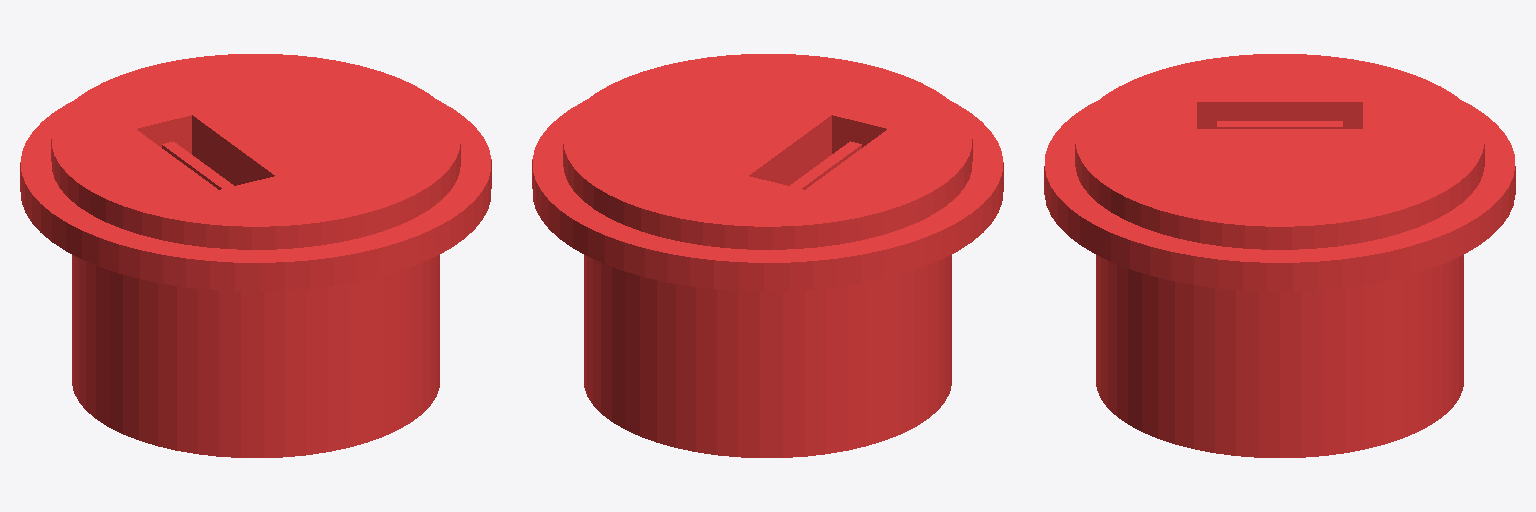
The robot description file, URDF, robot "USB_socket":
<?xml version="1.0"?>
<robot name="USB_socket">
    <link name="USB_socket">
        <visual>
            <geometry>
                <mesh filename="../mesh/TVB_mesh/USB_socket_1port.obj"/>                  
            </geometry>
            <material name="LightRed">
                <color rgba="1 0.3 0.3 1"/>
            </material>
        </visual>
        <collision>
            <geometry>
                <mesh filename="../mesh/TVB_mesh/USB_socket_1port.obj"/>                
            </geometry>
            <sdf resolution="128"/>
        </collision>
    </link>
</robot>

--- Facts derived from the render (not from the file) ---
Views: 3 orthographic renders of the robot side by side, from view 1: azimuth 30°, elevation 25°; view 2: azimuth 150°, elevation 25°; view 3: azimuth 270°, elevation 25°.
Robot: USB_socket — 1 links, 0 joints (none); root link USB_socket; default pose: every joint at zero.
Visible links, largest first — view 1: USB_socket; view 2: USB_socket; view 3: USB_socket.
Link boxes in pixels (box(x1,y1,x2,y2)): USB_socket: box(20, 54, 491, 457); USB_socket: box(532, 54, 1003, 457); USB_socket: box(1044, 54, 1515, 457).
Bounding box of the posed robot: 0.0662 × 0.0662 × 0.0373 m (x, y, z).
Meshes: 1 distinct files referenced, 1 mesh visuals loaded (1 OBJ).